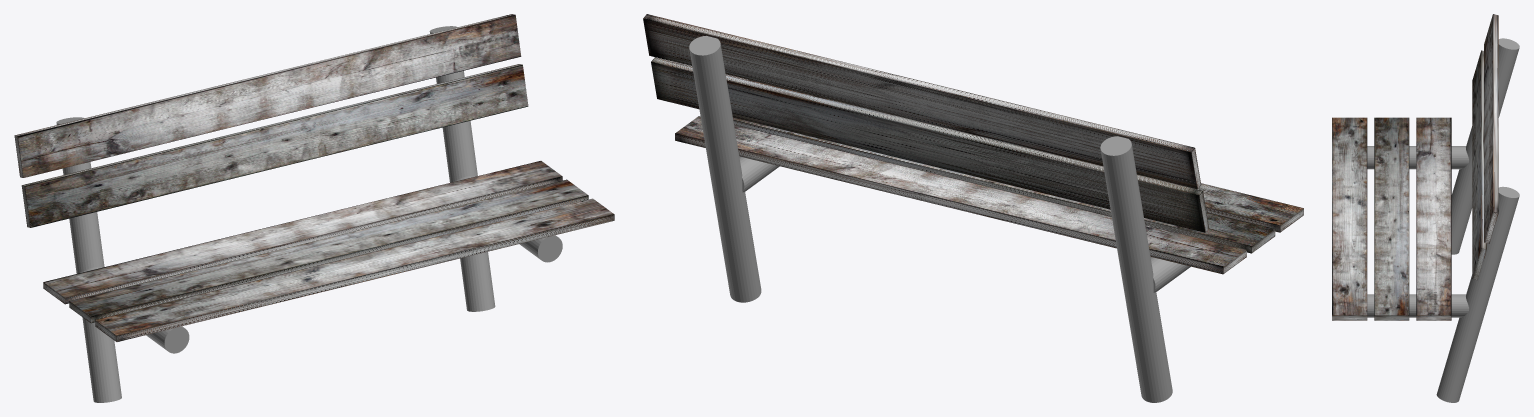
Rendered from bench.obj.
3 renders of one model, left to right at view 1: azimuth 30°, elevation 25°; view 2: azimuth 150°, elevation 25°; view 3: azimuth 270°, elevation 25°, orthographic. The views are drawn at different scales.
Visible parts, largest first — view 1: Bänk_Cylinder.001; view 2: Bänk_Cylinder.001; view 3: Bänk_Cylinder.001.
Boxes of the visible parts, x1,y1,x2,y2 form: Bänk_Cylinder.001: (14, 14, 614, 402); Bänk_Cylinder.001: (643, 14, 1303, 402); Bänk_Cylinder.001: (1332, 14, 1519, 402).
Size of the model in its own units: 8 by 4.02 by 3.21.
